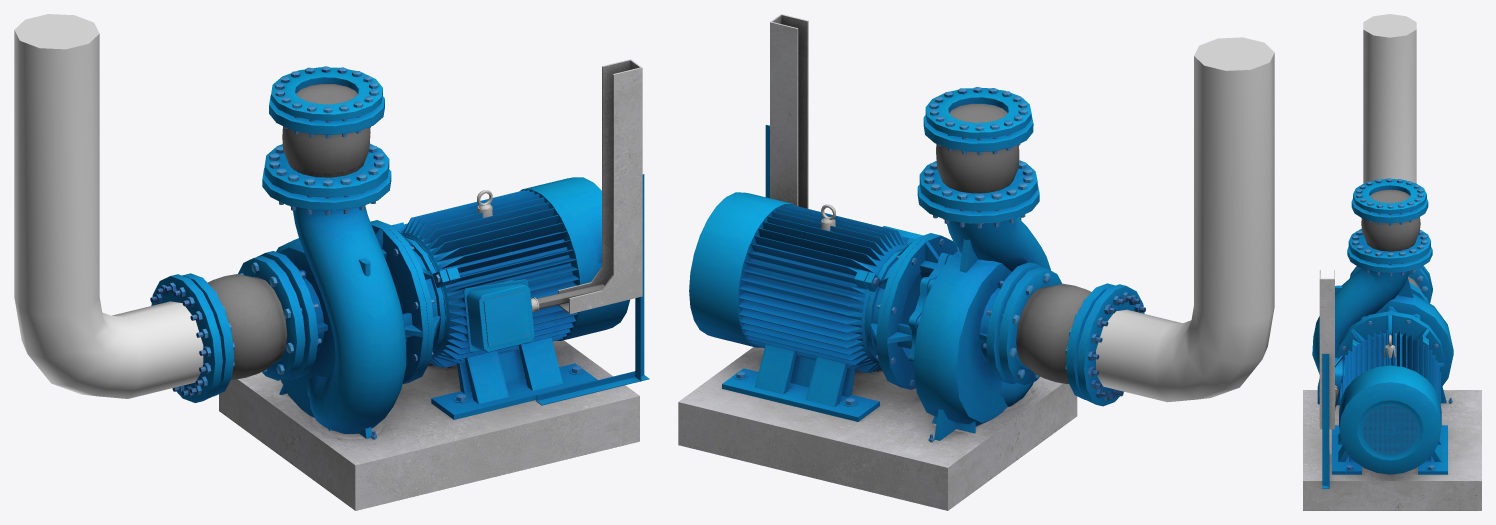
The model's file is LX_shuibeng2.glb.
The picture shows the model from 3 angles, left to right: view 1: azimuth 30°, elevation 25°; view 2: azimuth 150°, elevation 25°; view 3: azimuth 270°, elevation 25°; orthographic projection. The views are drawn at different scales.
Bounding box in the file's own units: 2.84 × 2.28 × 1.16.
Materials: 3 (2 with a texture image).
